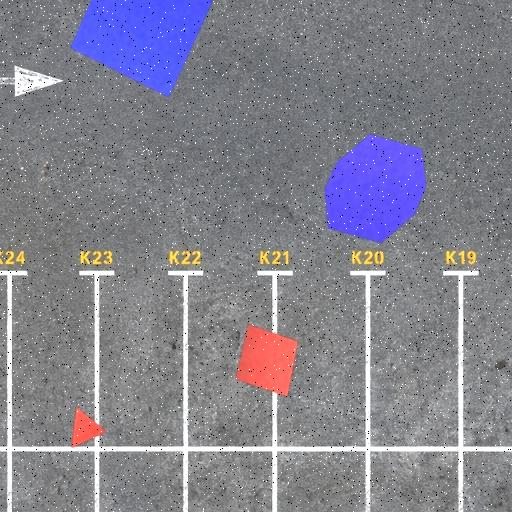BLUE_SQUARE: (70, 0, 218, 98)
RED_SQUARE: (234, 323, 300, 398)
